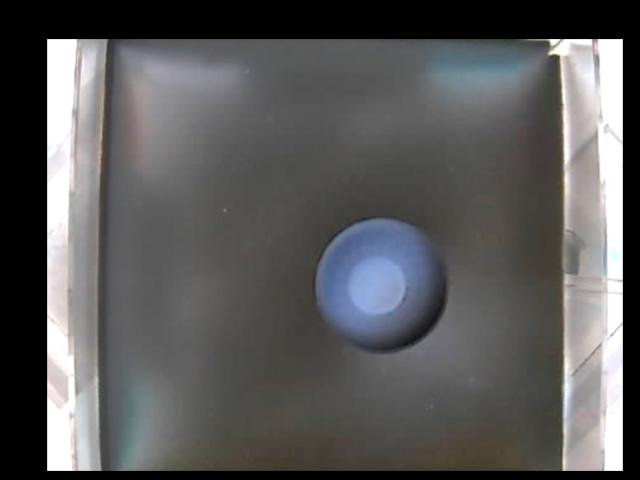Cup: (313, 217, 445, 353)
